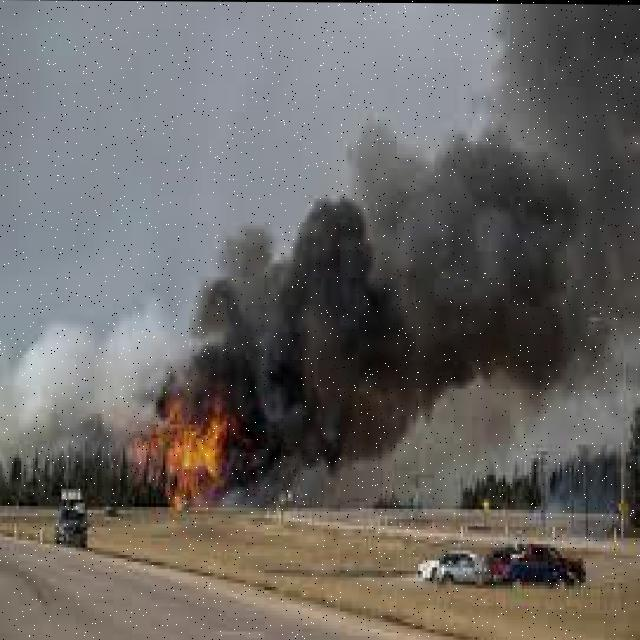Fire: (120, 396, 260, 504)
